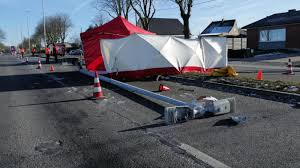obstacle: (157, 93, 253, 127), (92, 69, 104, 101), (158, 83, 169, 92), (36, 57, 43, 70)
